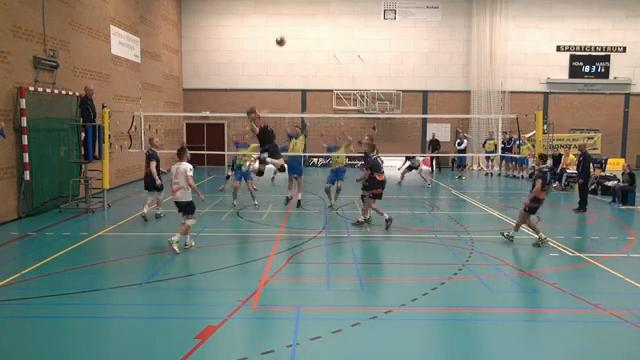attacco: (242, 106, 287, 180)
muro: (282, 104, 313, 209)
